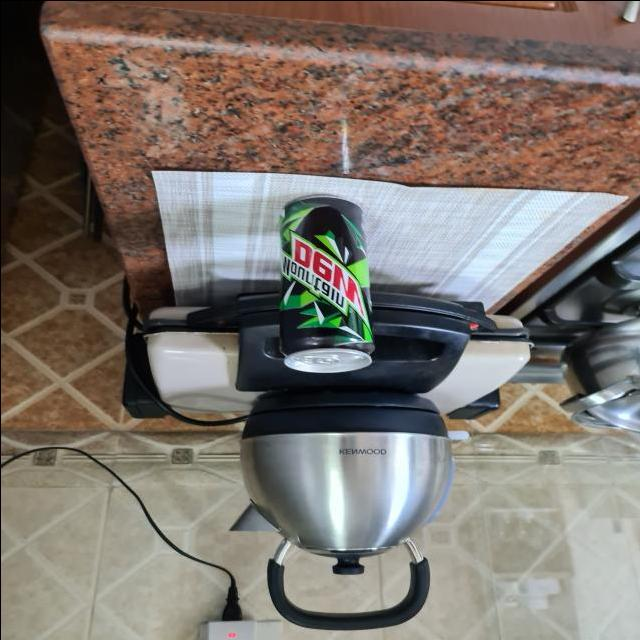can: (267, 195, 374, 378)
